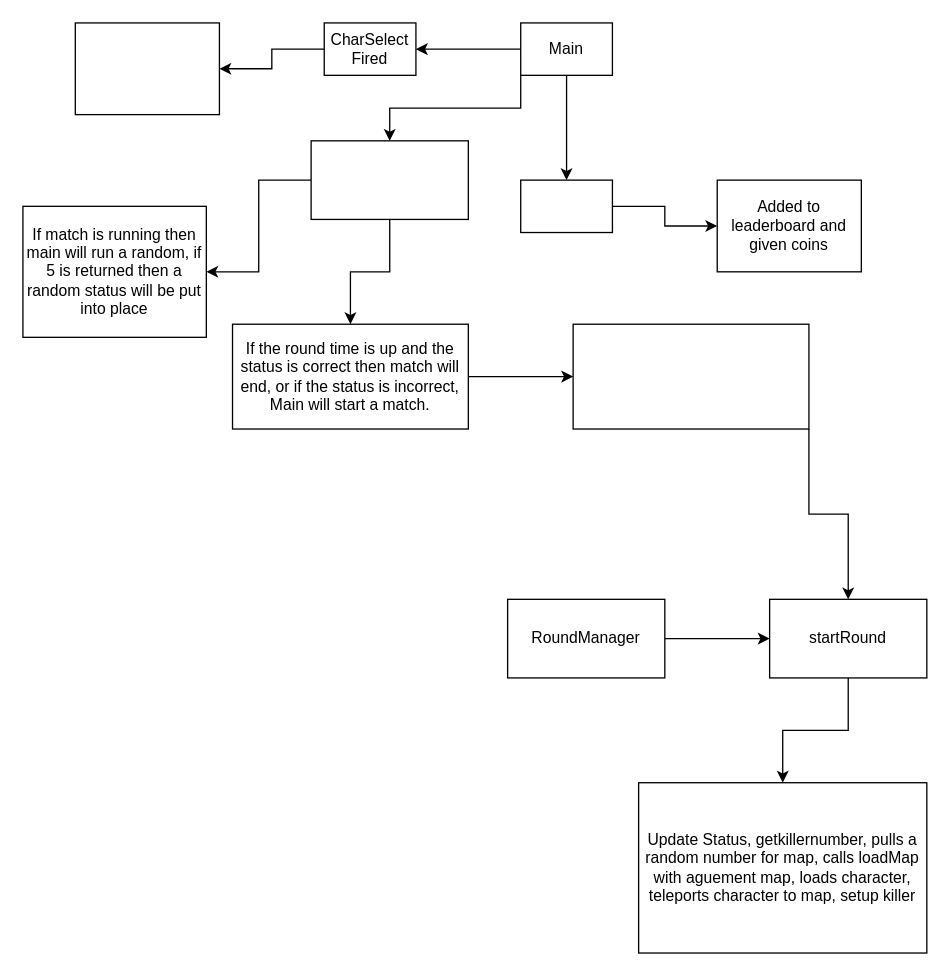
The diagram is 950 pixels wide and 976 high, and some of its shapes have lost their labels. Here are the shapes that lost their labels. From the top down, the box of each, then its label:
(74, 22, 219, 115): Fires Character Manager to Change character
(310, 140, 468, 219): Fires a time update every second
(519, 179, 612, 233): Player added
(572, 323, 809, 429): Fire StartRound Function at modulescript roundManager
